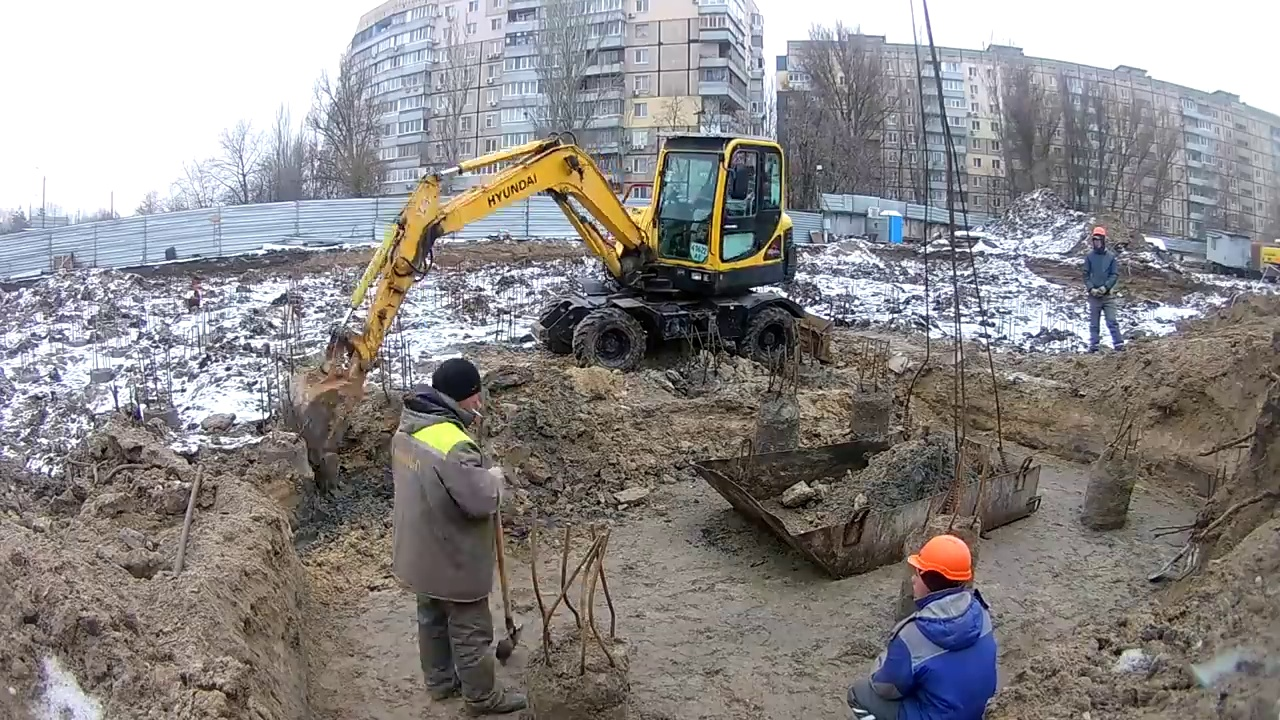helmet: (907, 535, 971, 581), (1092, 227, 1106, 237)
helmet-off: (429, 357, 480, 422)
helmet-on: (907, 534, 973, 600), (1091, 228, 1106, 250)
person: (390, 357, 520, 718), (848, 534, 999, 720), (1080, 227, 1126, 357)
